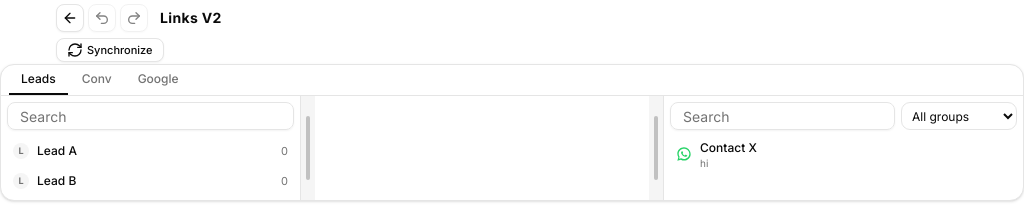
Links V2 — lead/conversation icons are links, names just select (like before) › clicking the conversation NAME (not the icon) still just selects it, like before
The width and height of the screenshot is (1024, 219).
Click the text "Contact X": (728, 148) [700,140,757,155]
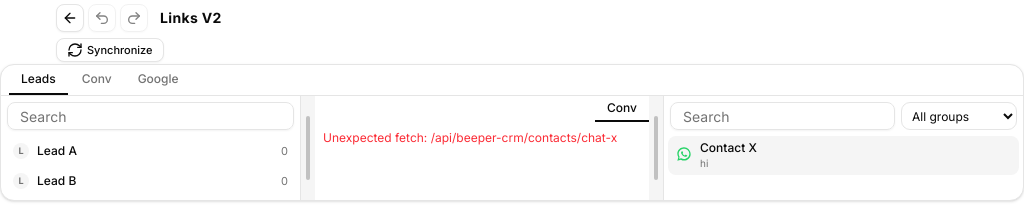
Result: the 2nd button "Conv" is shown at [595,96,649,122]
